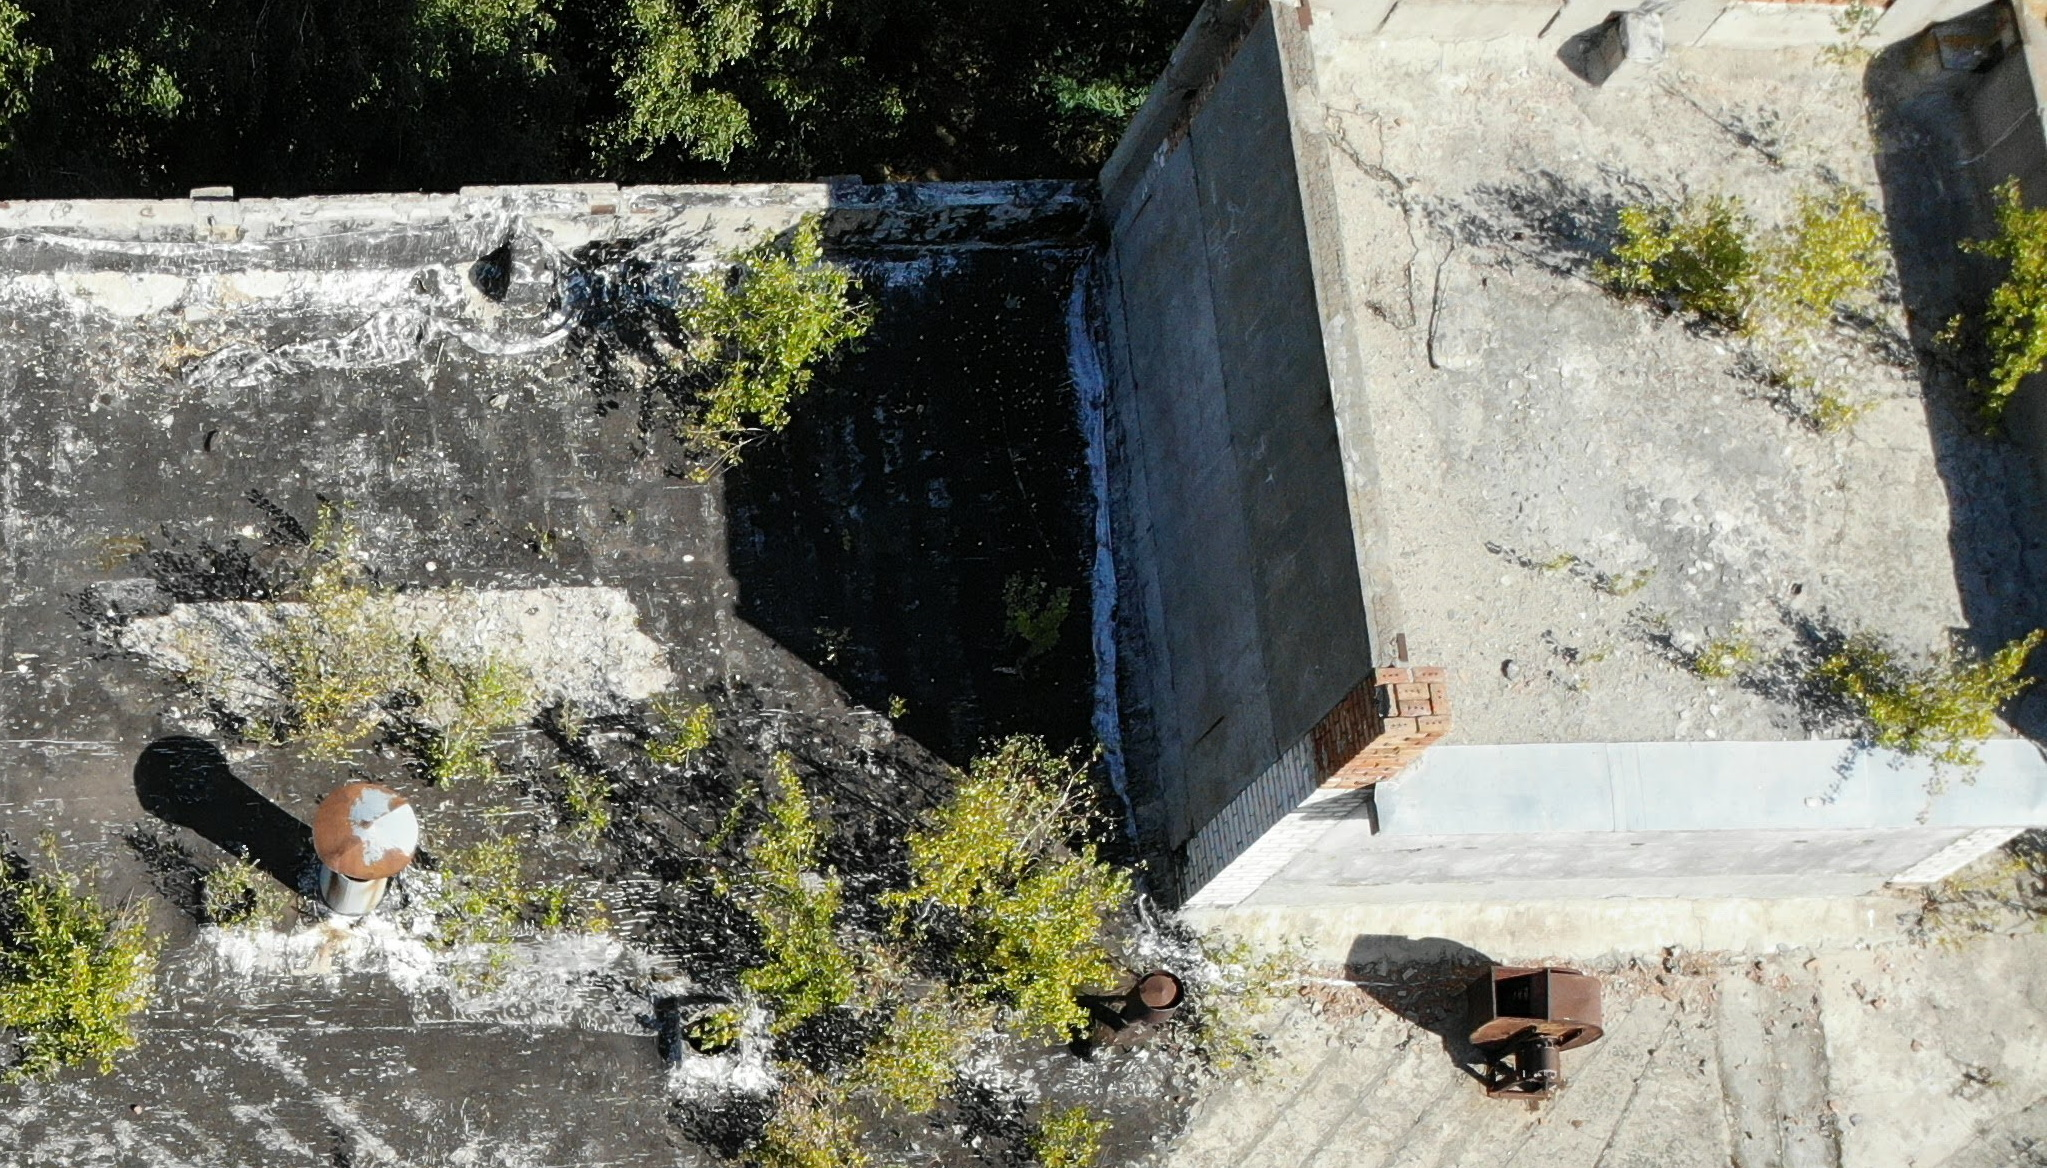tree: (1611, 148, 1918, 396), (1776, 548, 2027, 789), (704, 769, 880, 1070), (685, 221, 890, 462), (980, 825, 1195, 1049), (908, 751, 1077, 966), (259, 579, 423, 796), (13, 848, 164, 1078), (384, 647, 548, 828), (430, 836, 596, 985), (858, 989, 1002, 1119), (718, 1058, 889, 1165), (641, 694, 741, 796)
